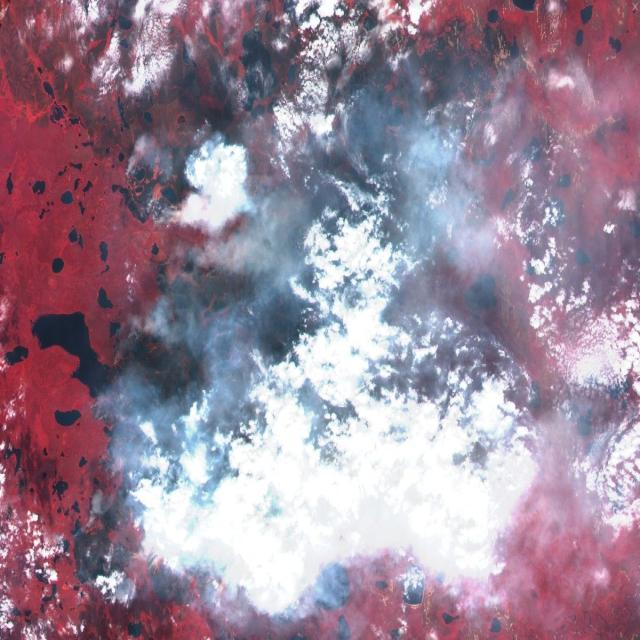fire: (62, 136, 401, 640)
